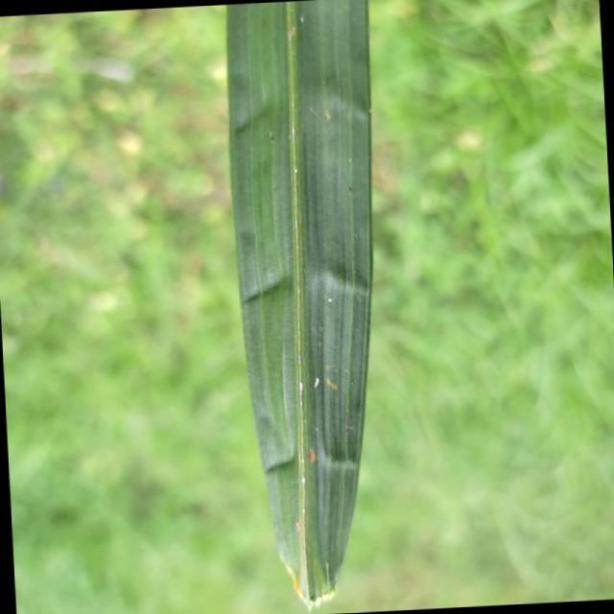Boron: (225, 0, 375, 601)
